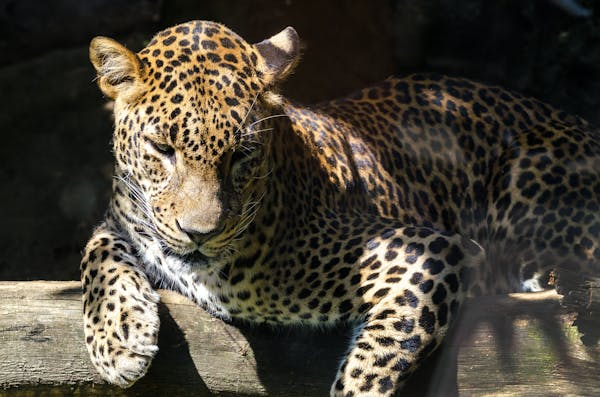Leopard: (80, 20, 600, 397)
